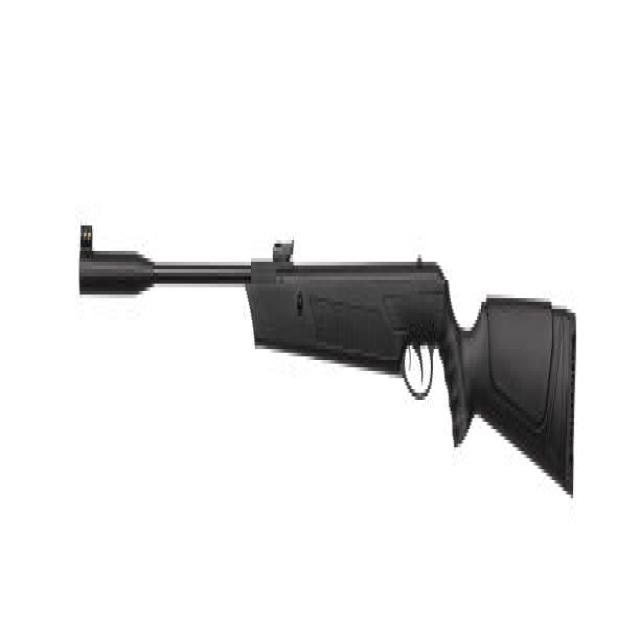rifle: (74, 211, 583, 518)
